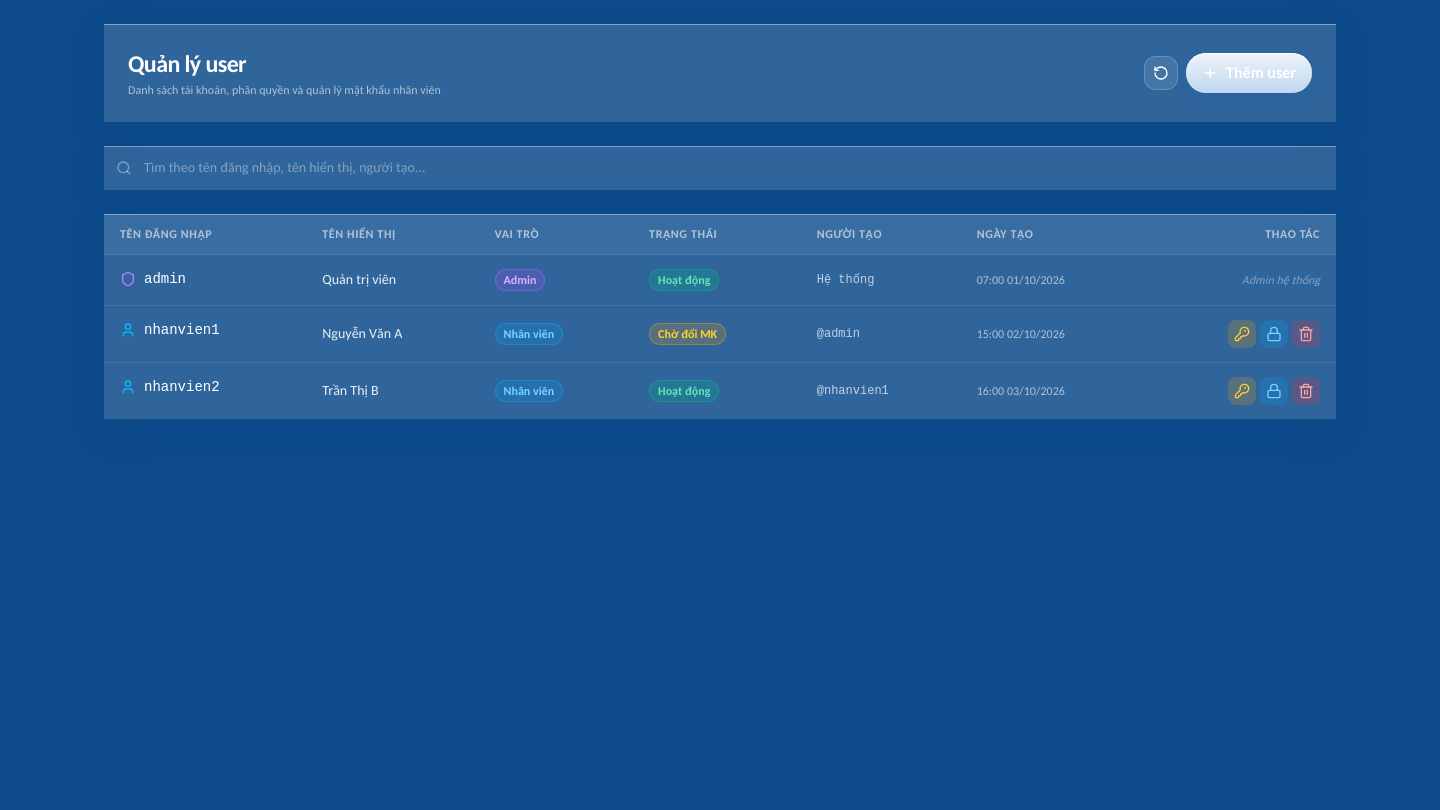
UsersPage › admin cấp lại mật khẩu cho staff mở modal hiển thị mật khẩu tạm thời mới
Click the button with test id "reset-pw-btn-nhanvien1".
click(1242, 334)  # box [1228, 320, 1256, 348]
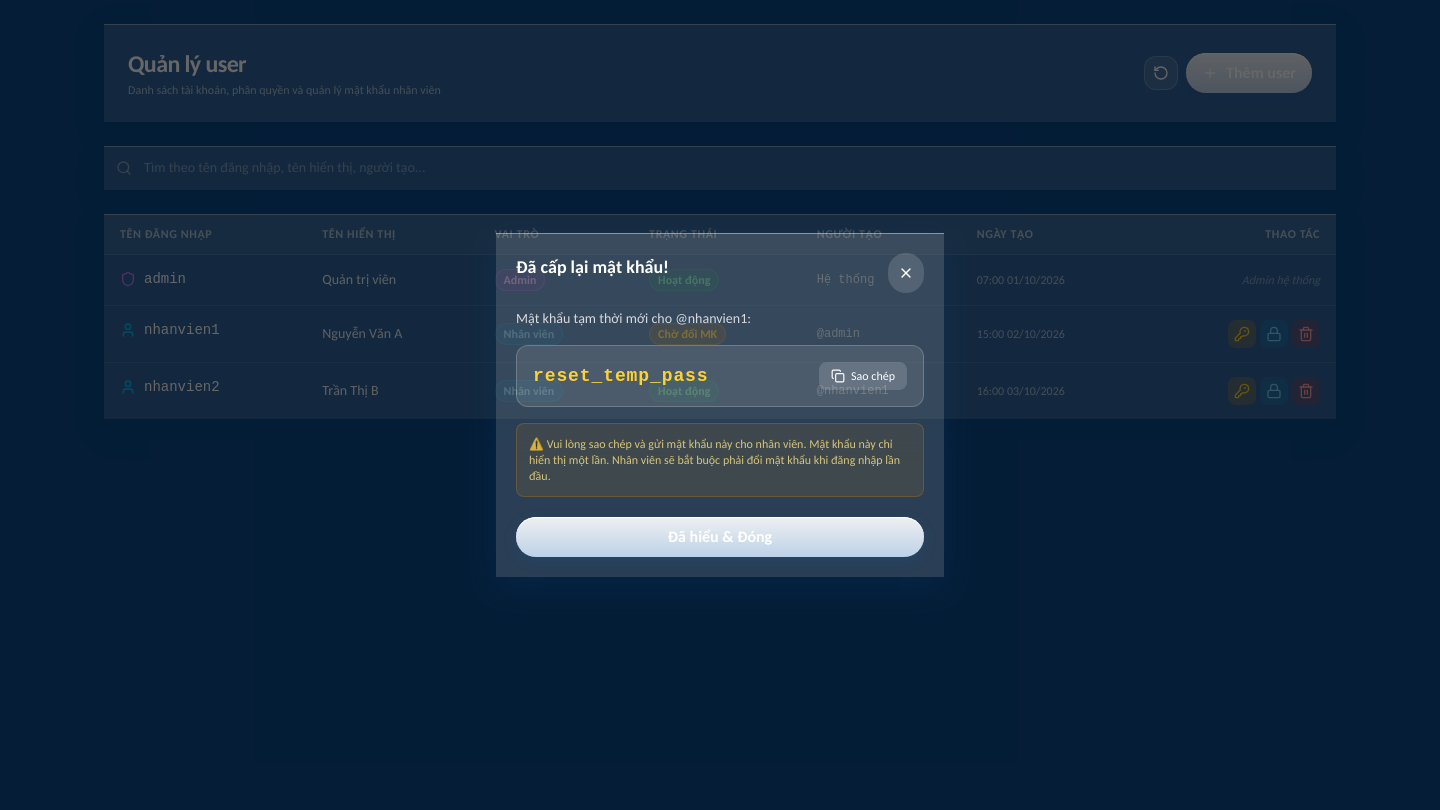
Check: the text with test id "temp-password-display" reads "reset_temp_pass", box [533, 366, 708, 386]
